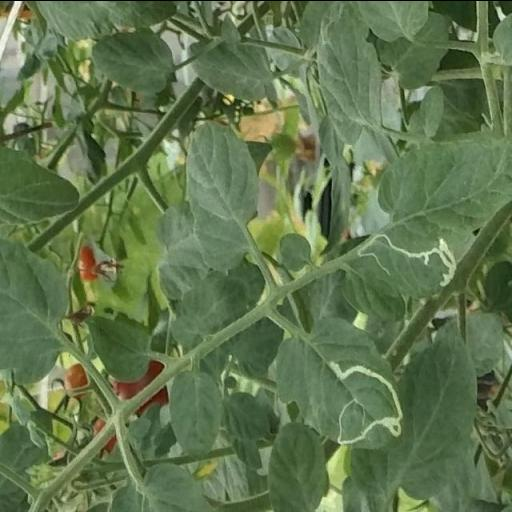Healthy: (180, 114, 262, 272), (90, 28, 176, 96), (266, 421, 329, 512), (167, 369, 225, 463), (82, 315, 156, 381)
Leaf Miner: (342, 134, 512, 300), (270, 315, 407, 449)
